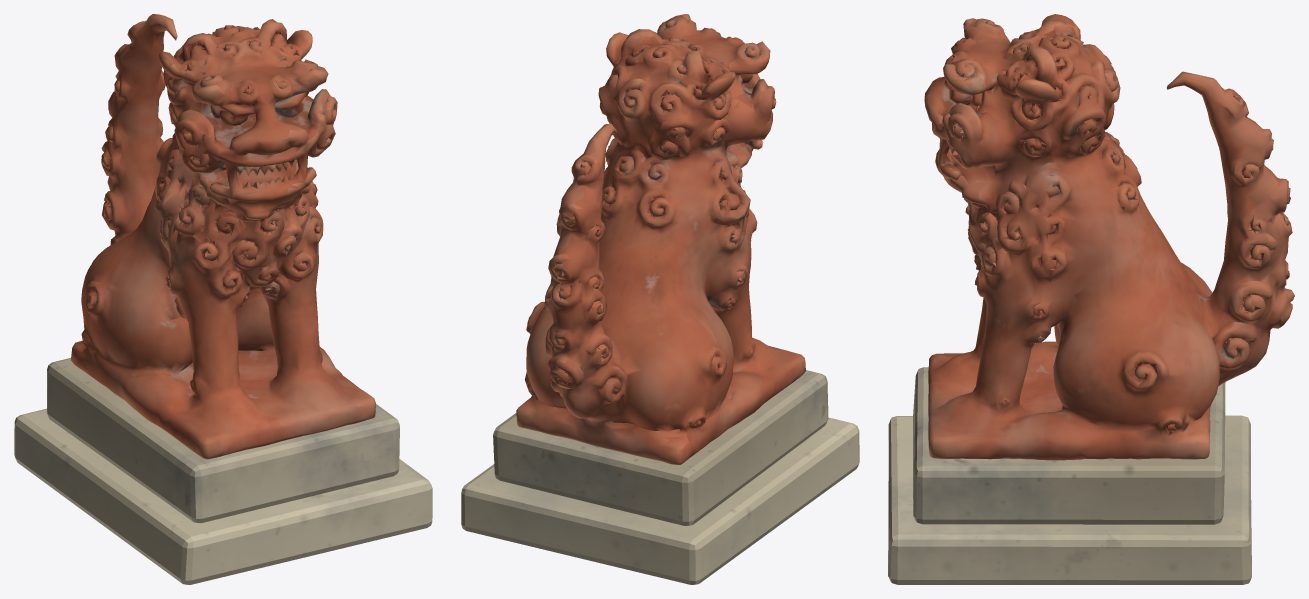
The model's file is Shisa_Agyo.gltf.
The picture shows the model from 3 angles, left to right: view 1: azimuth 30°, elevation 25°; view 2: azimuth 150°, elevation 25°; view 3: azimuth 270°, elevation 25°; orthographic projection. The views are drawn at different scales.
Parts seen in each view (by area): view 1: Shisa_Agyo; view 2: Shisa_Agyo; view 3: Shisa_Agyo.
Boxes of the visible parts, x1=… form: Shisa_Agyo: x1=14, y1=14, x2=432, y2=584; Shisa_Agyo: x1=461, y1=14, x2=859, y2=584; Shisa_Agyo: x1=888, y1=14, x2=1294, y2=584.
Bounding box in the file's own units: 0.6007 × 1.09 × 0.813.
2 materials, 2 textured.
